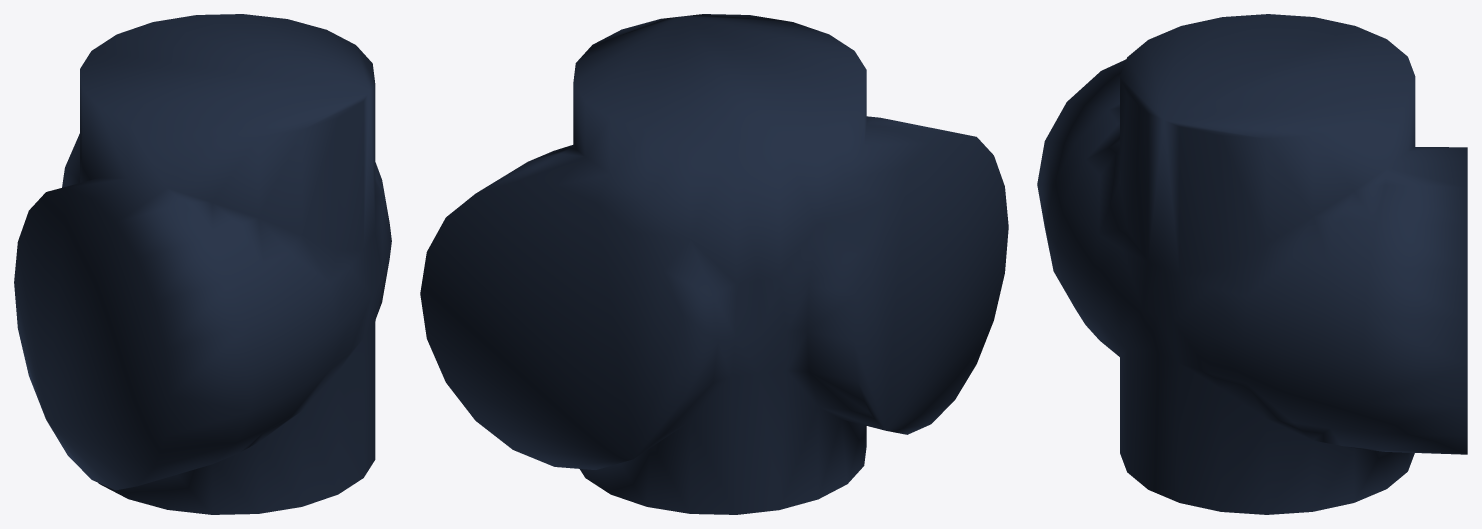
File: M_Sec_.fbx
The picture shows the model from 3 angles, left to right: view 1: azimuth 30°, elevation 25°; view 2: azimuth 150°, elevation 25°; view 3: azimuth 270°, elevation 25°; orthographic projection.
Visible parts, largest first — view 1: polySurface31; view 2: polySurface31; view 3: polySurface31.
Boxes of the visible parts, x1,y1,x2,y2 form: polySurface31: (14, 14, 391, 514); polySurface31: (420, 14, 1008, 514); polySurface31: (1037, 14, 1467, 514).
Size of the model in its own units: 9 by 8.67 by 9.
